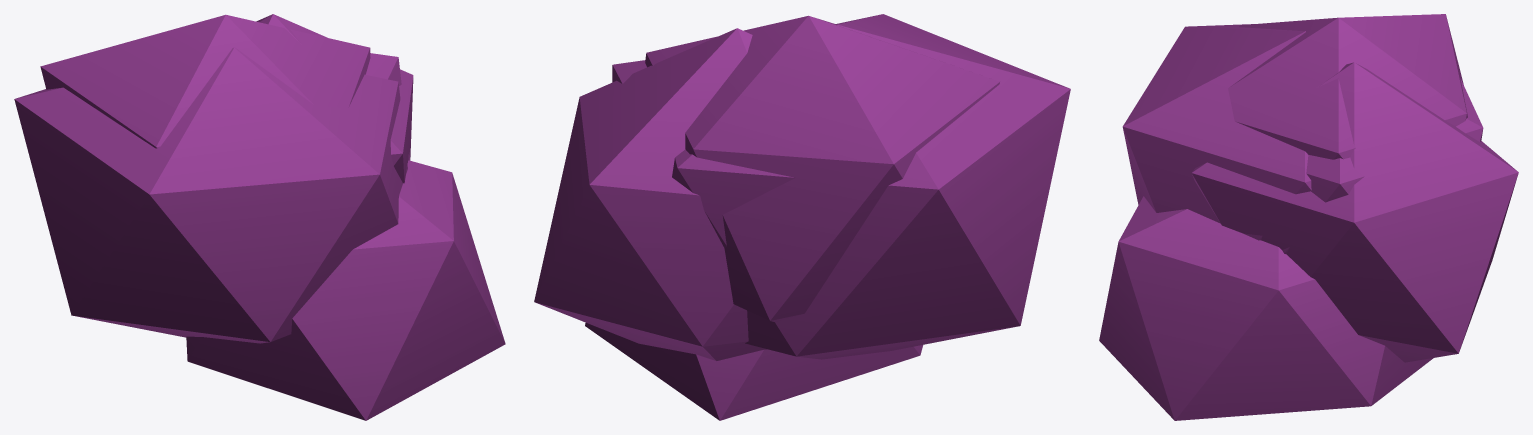
Rendered from tree_A.glb.
The picture shows the model from 3 angles, left to right: view 1: azimuth 30°, elevation 25°; view 2: azimuth 150°, elevation 25°; view 3: azimuth 270°, elevation 25°; orthographic projection. The views are drawn at different scales.
Parts seen in each view (by area): view 1: tree_A; view 2: tree_A; view 3: tree_A.
Boxes of the visible parts, x1,y1,x2,y2 form: tree_A: [14, 14, 505, 420]; tree_A: [534, 14, 1070, 420]; tree_A: [1099, 14, 1518, 420].
Size of the model in its own units: 0.9488 by 0.912 by 0.9582.
1 material, 1 textured.
